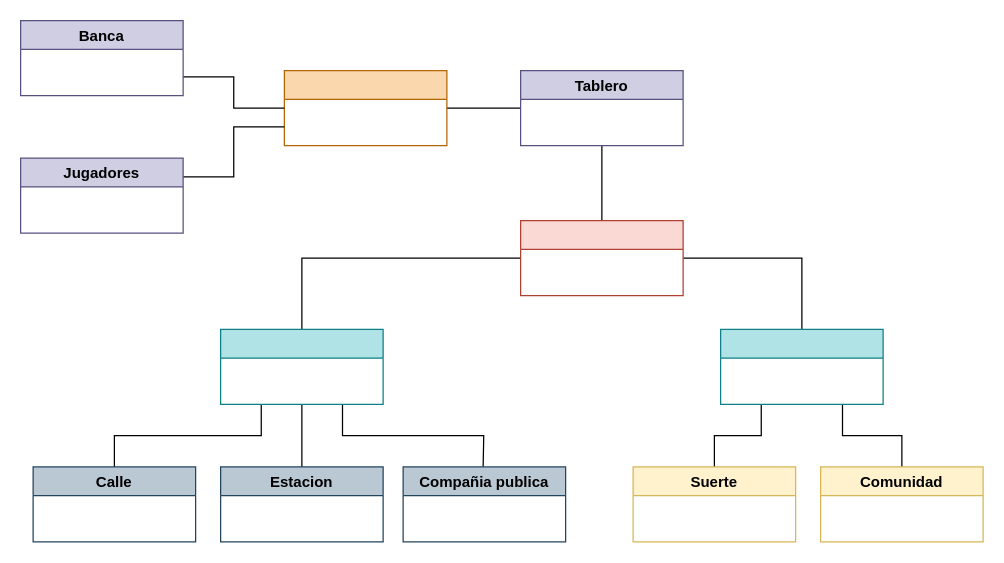
Image size: 1004x563. Some labels were removed from this diagram. The shapes that lost their labels are listed below. From the top down, each one's box as (x1, y1, x2, y2) in pixels, then its label:
(283, 69, 447, 146): Partida
(519, 219, 683, 296): Casilla
(219, 328, 383, 404): Propiedad
(719, 328, 883, 404): Especial
